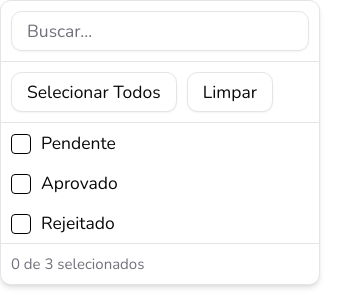
Test: BaseMultiSelectFilter › Search Functionality › shows "Nenhum resultado" when search has no matches
Type "xyz123" into the field with placeholder "Buscar...".
click(160, 31); type("xyz123")  # box x1=11 y1=11 x2=309 y2=51
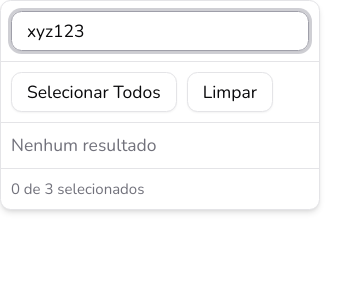
expect the text "Nenhum resultado" is shown: met, box x1=11 y1=133 x2=156 y2=157
